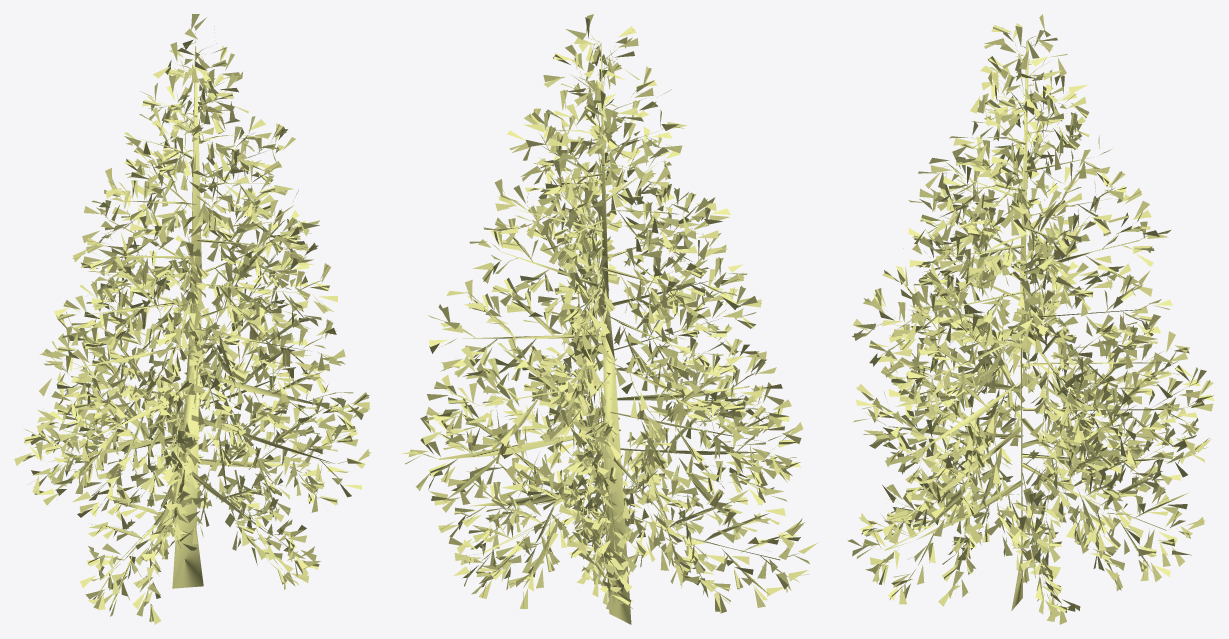
Rendered from songtree.obj.
3 views of the same model, side by side, from view 1: azimuth 30°, elevation 25°; view 2: azimuth 150°, elevation 25°; view 3: azimuth 270°, elevation 25° (orthographic). The views are drawn at different scales.
Visible parts, largest first — view 1: Foliage01; view 2: Foliage01; view 3: Foliage01.
Part boxes in pixels (box(x1,y1,x2,y2)): Foliage01: box(14, 14, 371, 624); Foliage01: box(401, 14, 818, 624); Foliage01: box(847, 14, 1214, 624).
Bounding box in the file's own units: 24.15 × 42.46 × 23.61.
